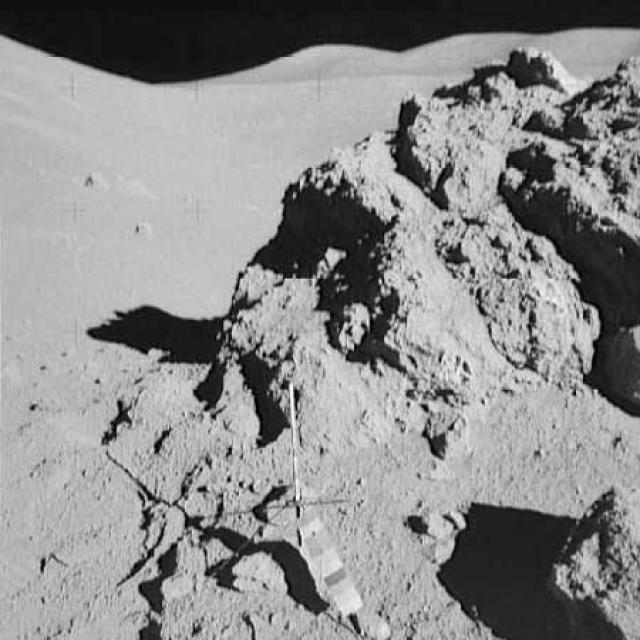artifact: (200, 382, 372, 566)
rock: (519, 465, 639, 639)
